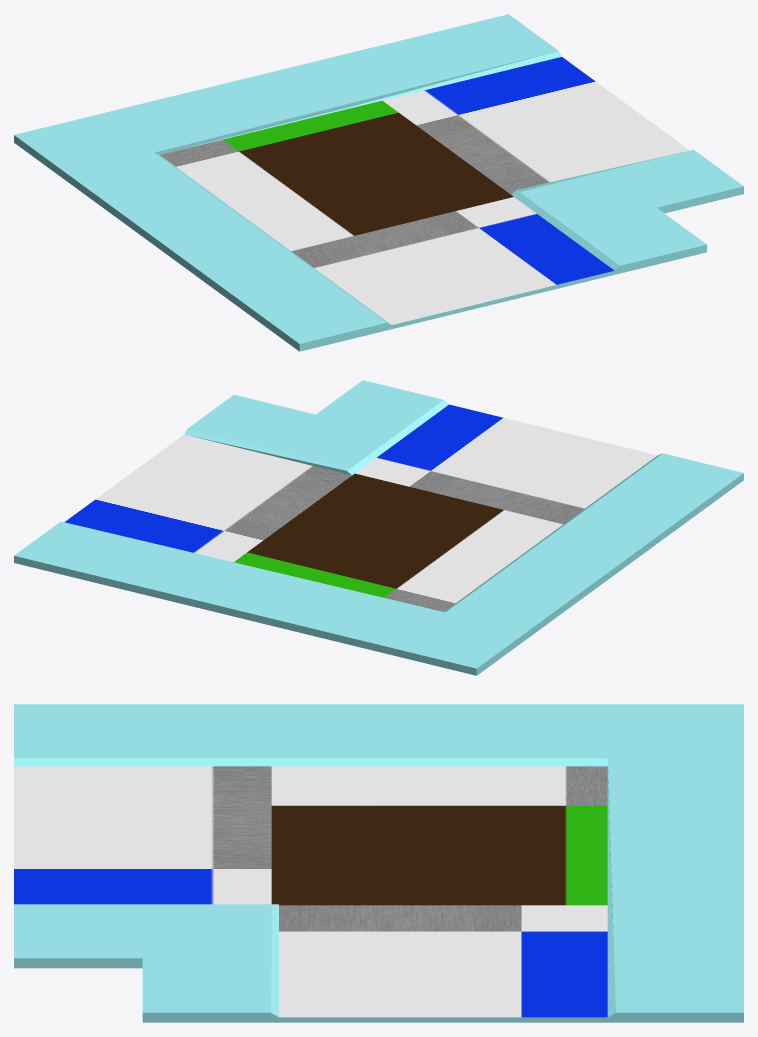
Rendered from Road2.fbx.
3 views of the same model, one above another, from view 1: azimuth 30°, elevation 25°; view 2: azimuth 150°, elevation 25°; view 3: azimuth 270°, elevation 25° (orthographic). The views are drawn at different scales.
Parts seen in each view (by area): view 1: pCube4; view 2: pCube4; view 3: pCube4.
Part boxes in pixels (x1,y1,x2,y2): pCube4: (14,14,743,351); pCube4: (14,380,743,675); pCube4: (14,704,743,1022).
Bounding box in the file's own units: 8.5 × 0.1268 × 8.5.
